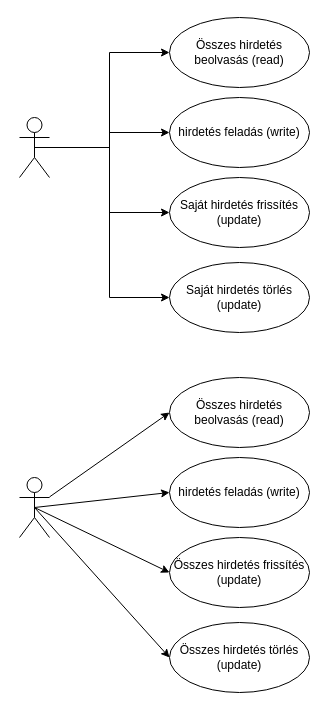
The diagram is 327 pixels wide and 710 high, and some of its shapes have lost their labels. Each missing label, with the centre of its shape:
"Admin" goes at point 34,507.
"ügyfél" goes at point 34,147.
